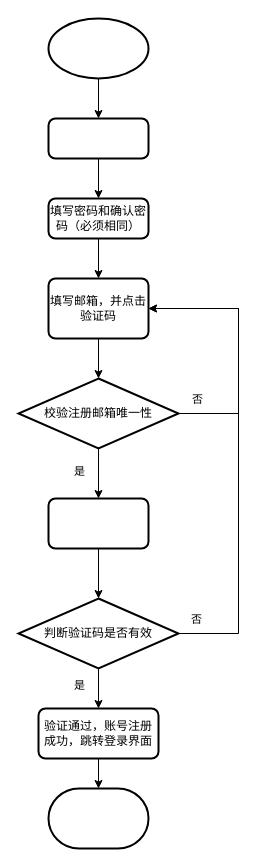
This 264x866 diagram has some shape labels left out. Each missing label, with the box of its shape:
填写收到的验证码: (47, 497, 149, 549)
填写账号: (47, 117, 149, 159)
